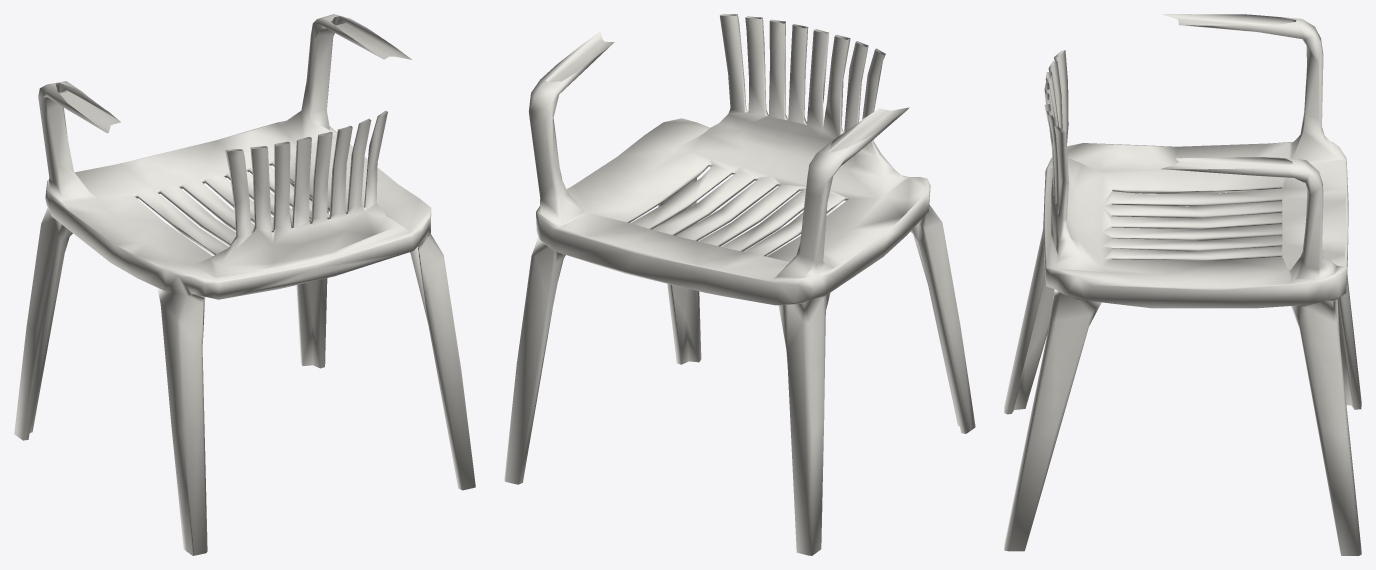
File: vergil_chair_lower.obj
3 renders of one model, left to right at view 1: azimuth 30°, elevation 25°; view 2: azimuth 150°, elevation 25°; view 3: azimuth 270°, elevation 25°, orthographic. The views are drawn at different scales.
Visible parts, largest first — view 1: vergil_chair; view 2: vergil_chair; view 3: vergil_chair.
Boxes of the visible parts, x1,y1,x2,y2 form: vergil_chair: (14,14,475,555); vergil_chair: (504,14,975,555); vergil_chair: (1004,14,1361,555).
Size of the model in its own units: 0.8599 by 0.9998 by 0.8364.
